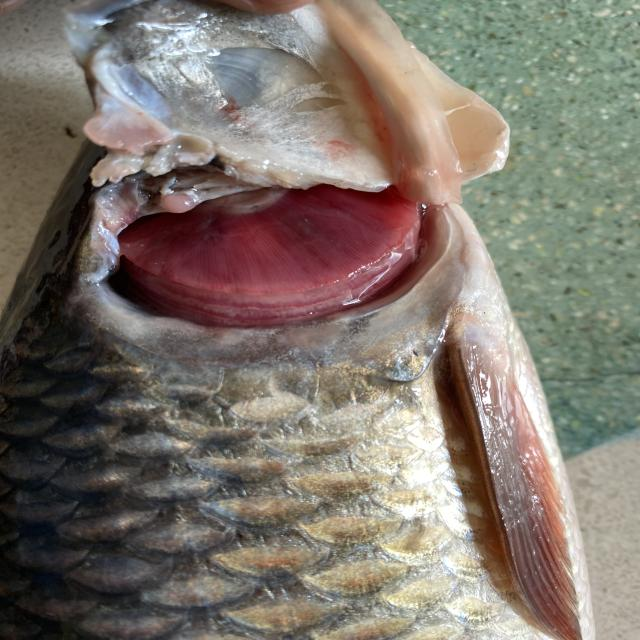Fresh: (75, 172, 505, 341)
